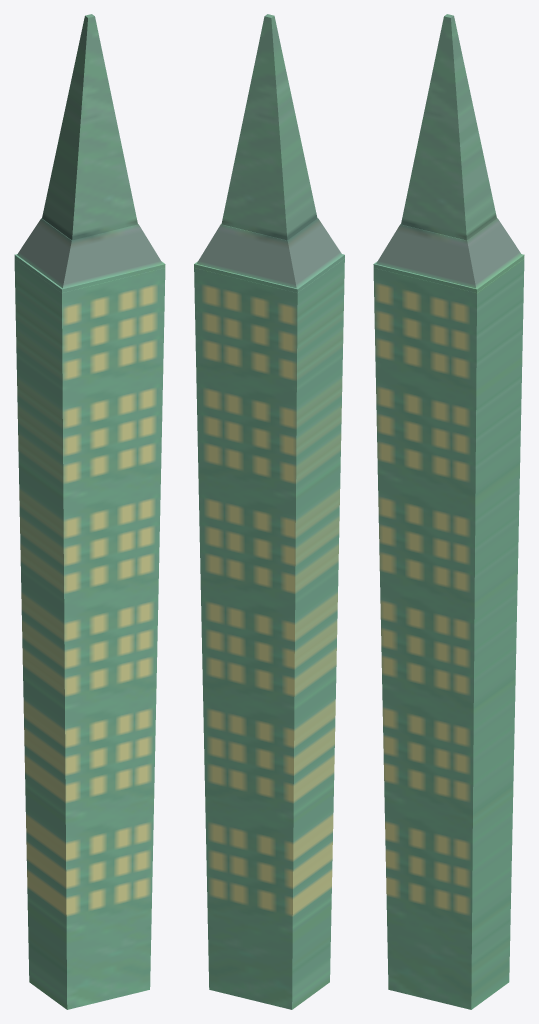
File: House6.glb
3 renders of one model, left to right at view 1: azimuth 30°, elevation 25°; view 2: azimuth 150°, elevation 25°; view 3: azimuth 330°, elevation 25°, orthographic.
Parts seen in each view (by area): view 1: House6; view 2: House6; view 3: House6.
Part boxes in pixels (x1=…): House6: x1=14, y1=14, x2=165, y2=1009; House6: x1=194, y1=14, x2=344, y2=1009; House6: x1=373, y1=14, x2=524, y2=1009.
Size of the model in its own units: 110 by 982 by 86.92.
Materials: 1 (1 with a texture image).
